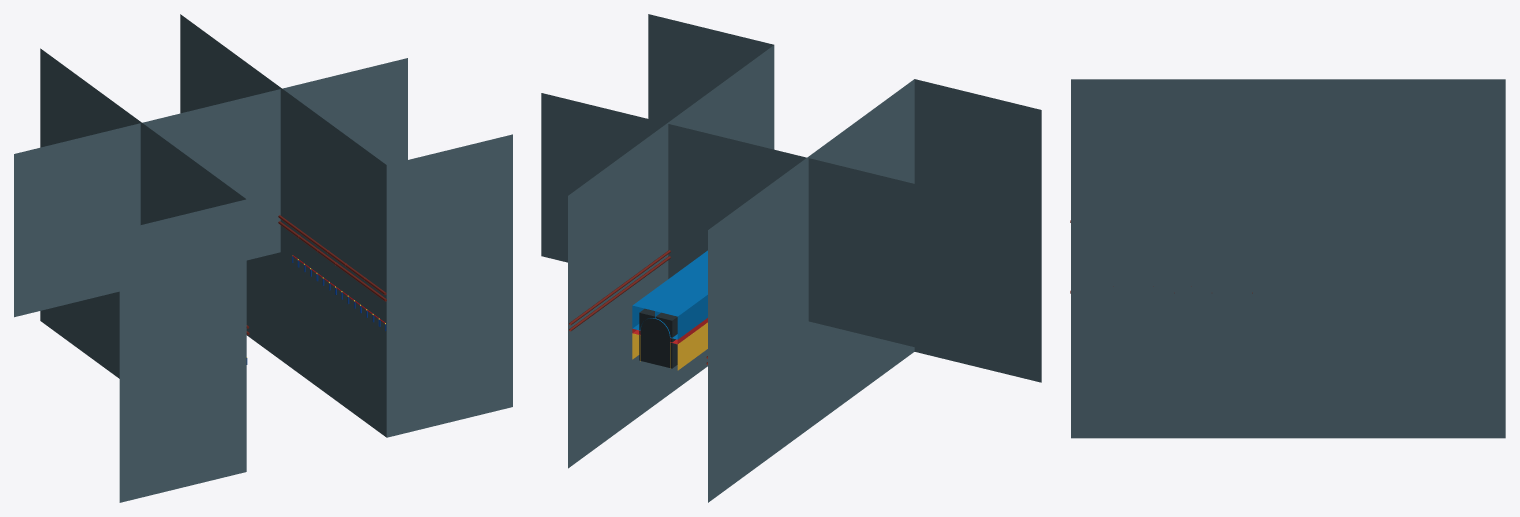
The picture shows the model from 3 angles, left to right: view 1: azimuth 30°, elevation 25°; view 2: azimuth 150°, elevation 25°; view 3: azimuth 270°, elevation 25°; orthographic projection. The views are drawn at different scales.
Parts seen in each view (by area): view 1: wall_3, wall_2, wall_1; view 2: wall_2, wall_1, wall_3; view 3: wall_3, wall_2.
Boxes of the visible parts, left/top/right/bottom form: wall_3: left=180, top=14, right=512, bottom=437; wall_2: left=40, top=48, right=249, bottom=502; wall_1: left=14, top=58, right=407, bottom=317; wall_2: left=706, top=79, right=1041, bottom=502; wall_1: left=541, top=93, right=935, bottom=370; wall_3: left=568, top=14, right=774, bottom=468; wall_3: left=1070, top=151, right=1505, bottom=438; wall_2: left=1070, top=79, right=1505, bottom=222.
Size of the model in its own units: 104742 by 69212 by 95228.
